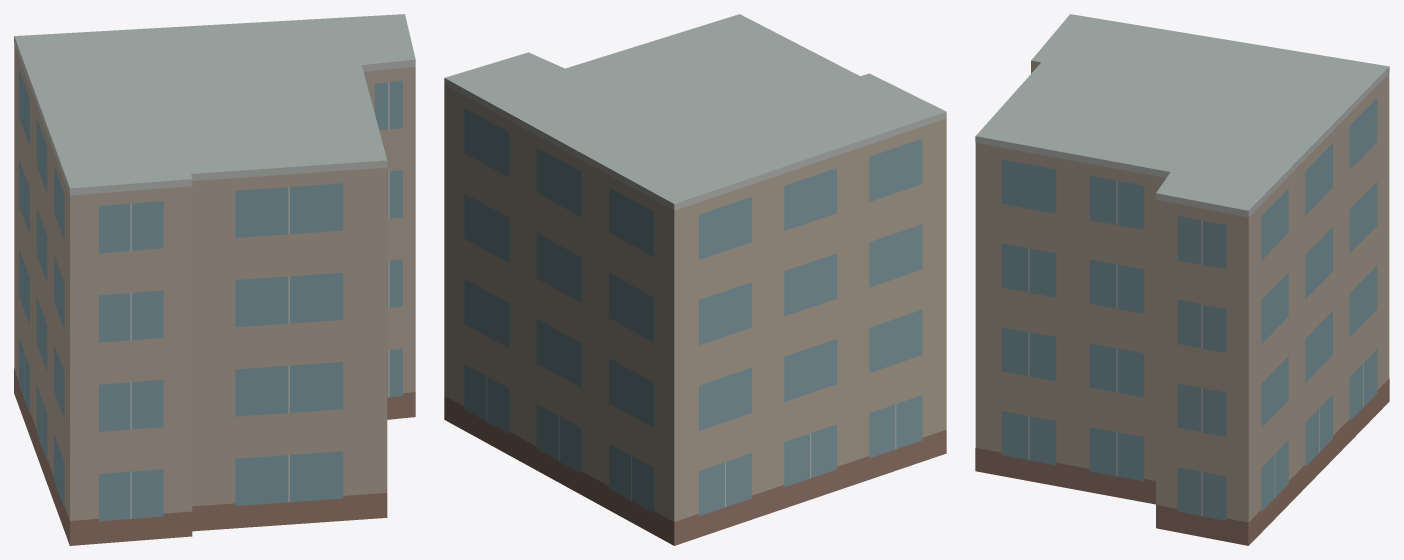
Rendered from survey-upis-32911307.glb.
The picture shows the model from 3 angles, left to right: view 1: azimuth 30°, elevation 25°; view 2: azimuth 150°, elevation 25°; view 3: azimuth 270°, elevation 25°; orthographic projection. The views are drawn at different scales.
Parts seen in each view (by area): view 1: survey-upis-32911307.tmp; view 2: survey-upis-32911307.tmp; view 3: survey-upis-32911307.tmp.
Boxes of the visible parts, x1=… form: survey-upis-32911307.tmp: x1=14, y1=14, x2=415, y2=545; survey-upis-32911307.tmp: x1=444, y1=14, x2=946, y2=545; survey-upis-32911307.tmp: x1=975, y1=14, x2=1389, y2=545.
Size of the model in its own units: 15.5 by 12.3 by 13.78.
